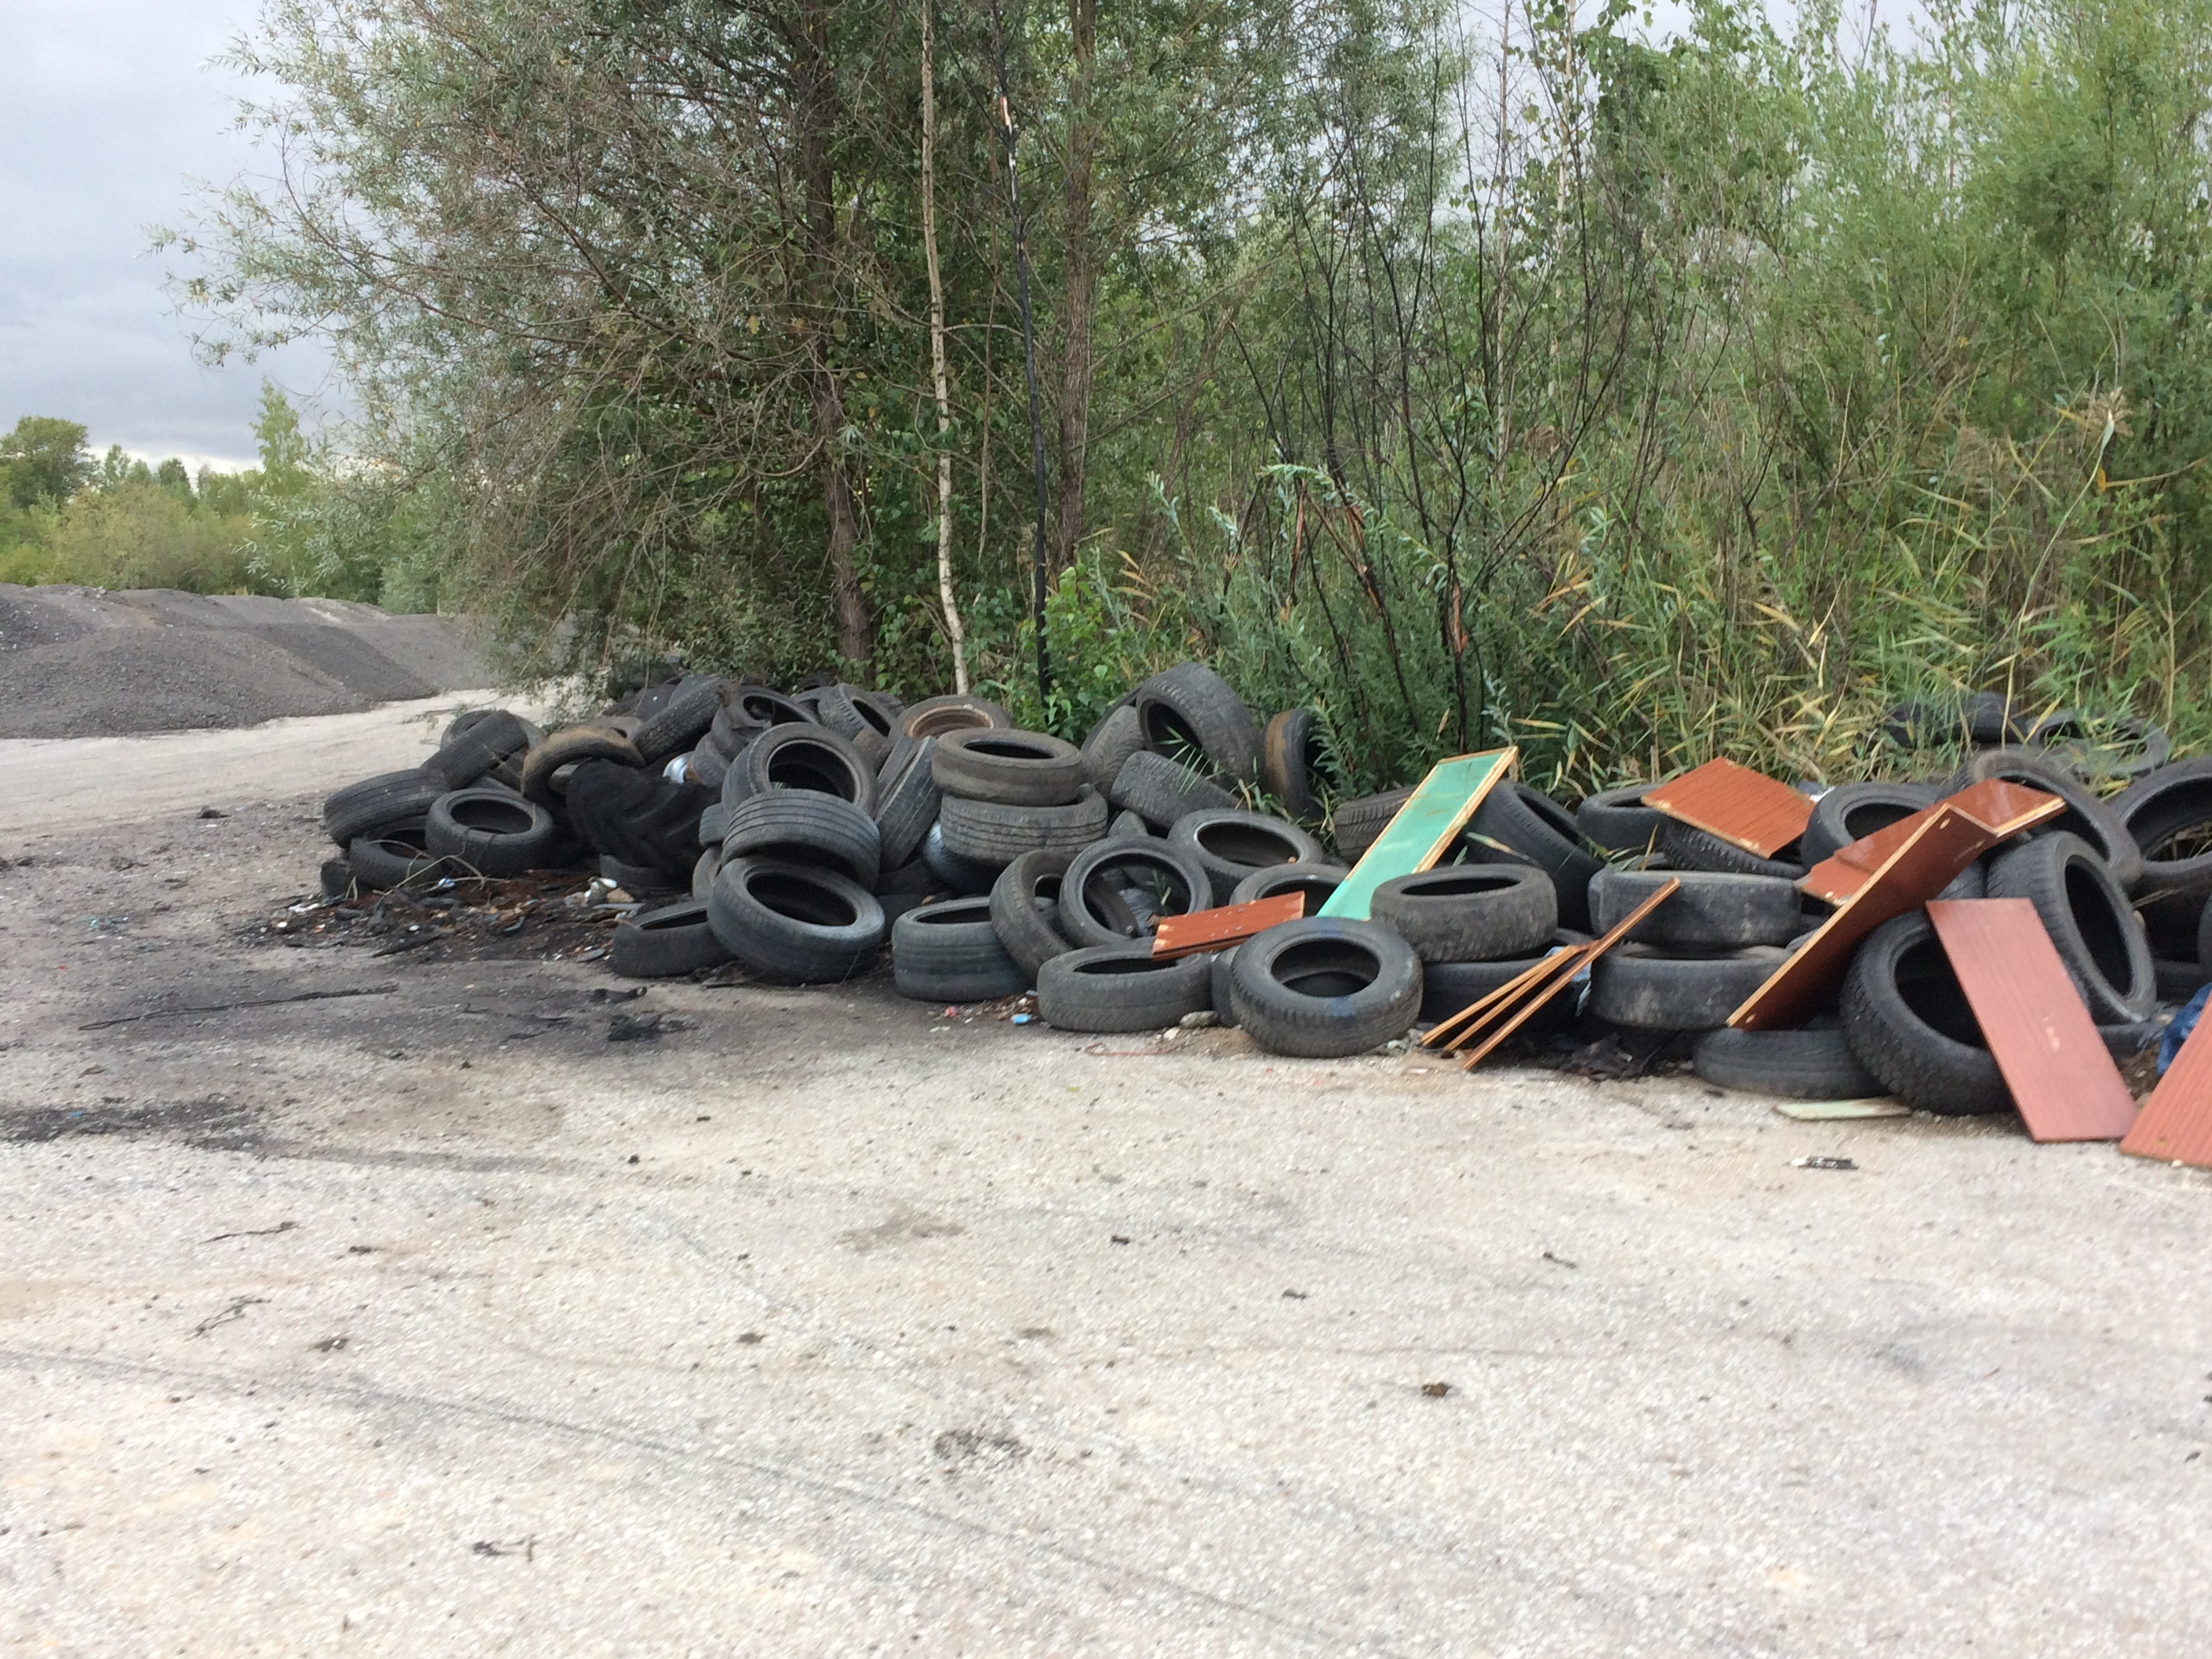trash: (1150, 742, 2212, 1180)
